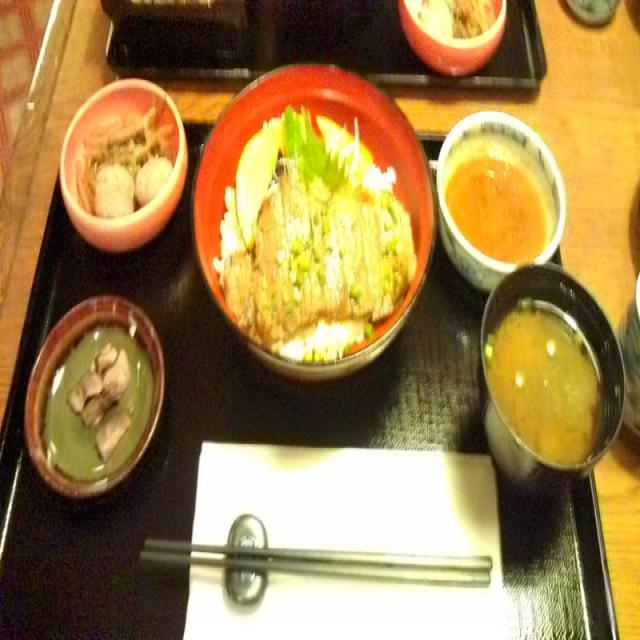汤锅炖物: (476, 261, 622, 476)
